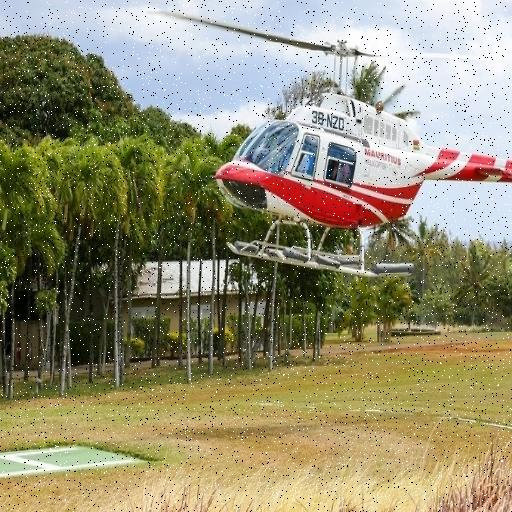helicopter: (131, 18, 512, 290)
